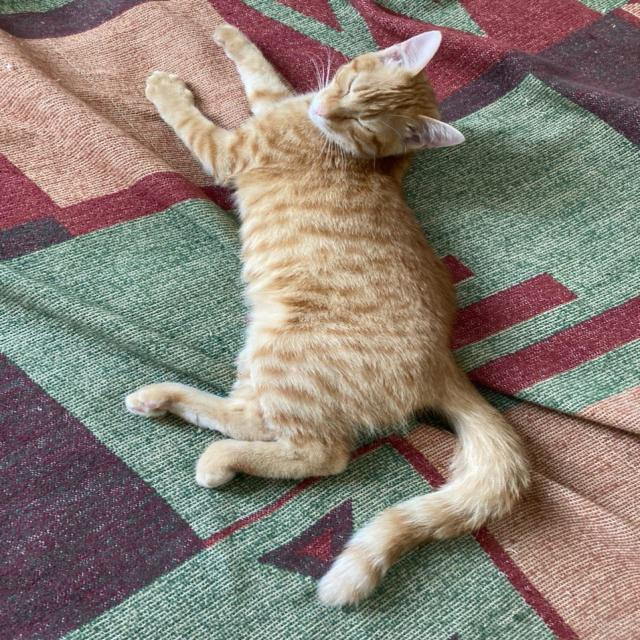red_cat: (126, 19, 510, 520)
